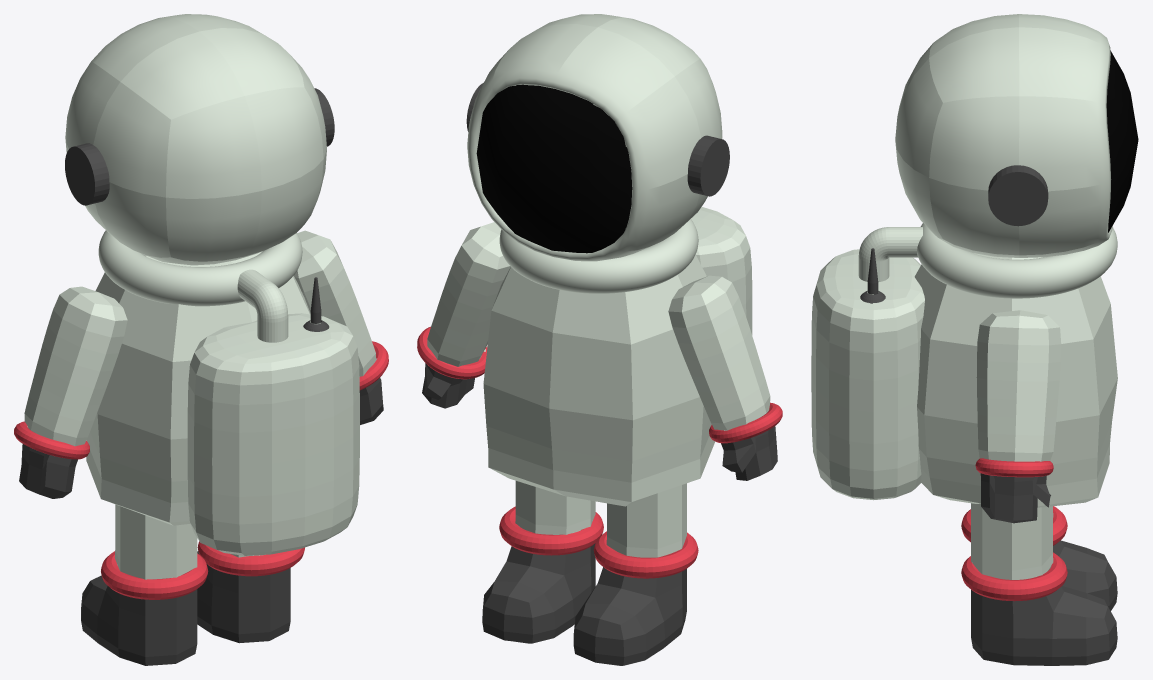
Rendered from SpaceMan.glb.
3 views of the same model, side by side, from view 1: azimuth 30°, elevation 25°; view 2: azimuth 150°, elevation 25°; view 3: azimuth 270°, elevation 25° (orthographic). The views are drawn at different scales.
Visible parts, largest first — view 1: Helmet, Backpack, Space Man, Arms, Boots, Legs, Ankles, Hands, Ears, Left Wrist, Right wrist, Radar; view 2: Space Man, Helmet, Viser, Arms, Boots, Legs, Ankles, Backpack, Hands, Ears, Right wrist, Left Wrist; view 3: Helmet, Backpack, Space Man, Boots, Arms, Legs, Viser, Ankles, Ears, Hands, Right wrist, Radar.
Part boxes in pixels (x1,y1,x2,y2): Helmet: [65, 14, 326, 306]; Backpack: [187, 269, 359, 555]; Space Man: [86, 251, 310, 525]; Arms: [24, 230, 376, 446]; Boots: [81, 551, 290, 665]; Legs: [114, 504, 265, 579]; Ankles: [101, 541, 304, 599]; Hands: [19, 377, 383, 498]; Ears: [65, 88, 334, 205]; Left Wrist: [14, 421, 89, 459]; Right wrist: [359, 341, 388, 390]; Radar: [303, 277, 329, 331]; Space Man: [483, 254, 715, 506]; Helmet: [467, 14, 722, 293]; Viser: [476, 84, 632, 253]; Arms: [427, 222, 770, 430]; Boots: [482, 543, 686, 665]; Legs: [515, 481, 686, 557]; Ankles: [499, 506, 698, 578]; Backpack: [691, 207, 752, 334]; Hands: [422, 363, 777, 480]; Ears: [466, 83, 729, 196]; Right wrist: [417, 326, 487, 379]; Left Wrist: [709, 402, 782, 443]; Helmet: [895, 14, 1117, 298]; Backpack: [811, 227, 924, 500]; Space Man: [914, 252, 1117, 507]; Boots: [971, 540, 1117, 665]; Arms: [976, 310, 1061, 461]; Legs: [971, 503, 1053, 579]; Viser: [1106, 51, 1138, 232]; Ankles: [961, 506, 1067, 601]; Ears: [988, 165, 1048, 226]; Hands: [980, 473, 1050, 523]; Right wrist: [975, 458, 1053, 477]; Radar: [860, 248, 885, 303].
Bounding box in the file's own units: 3.83 × 6.12 × 3.01.
